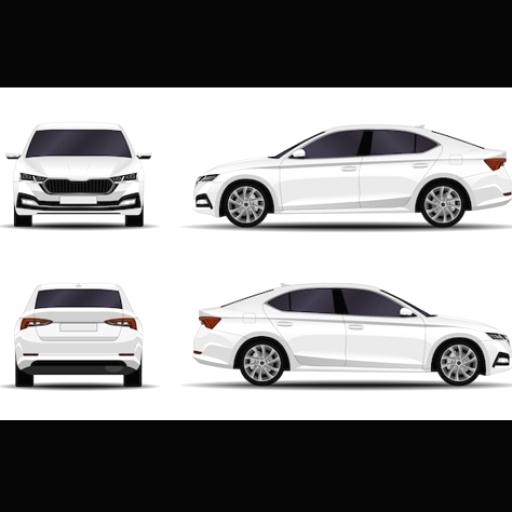sedan: (194, 284, 511, 385), (197, 126, 512, 226), (8, 122, 152, 226), (15, 285, 142, 385)
